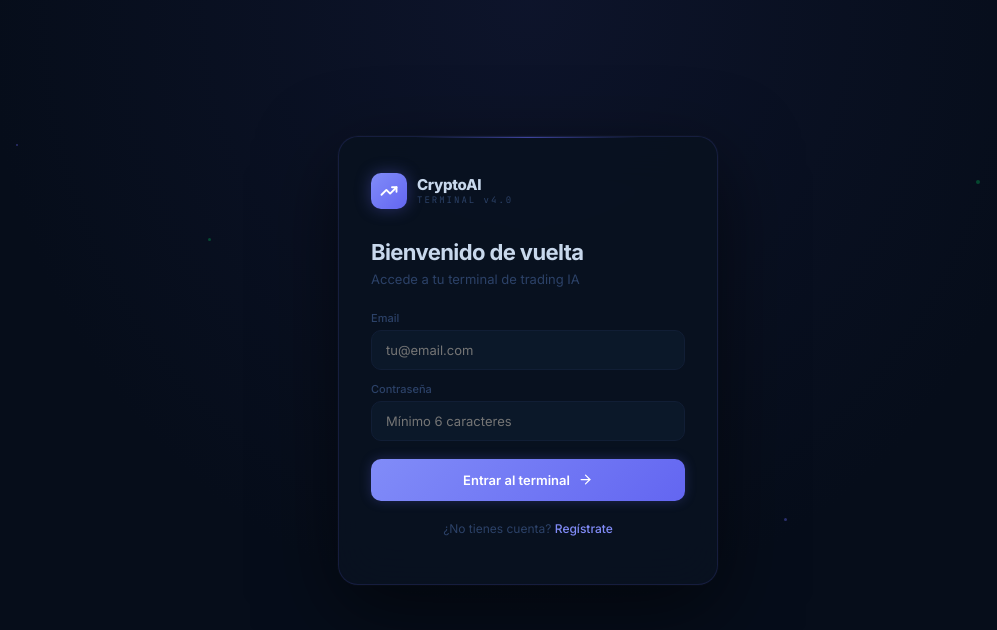
Scenario: Login › shows error for invalid email
The image size is (997, 630).
Type "notanemail" into the field with placeholder "tu@email.com" at (528, 350), box [371,330,685,370]
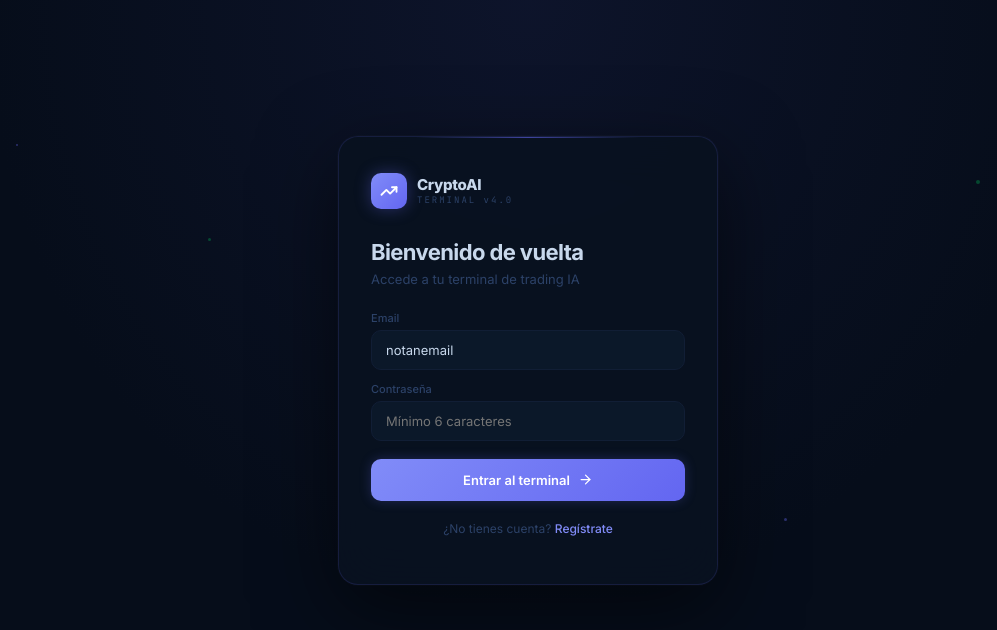
Type "password123" into the password field with placeholder "Mínimo 6 caracteres" at (528, 420), box [371,400,685,440]
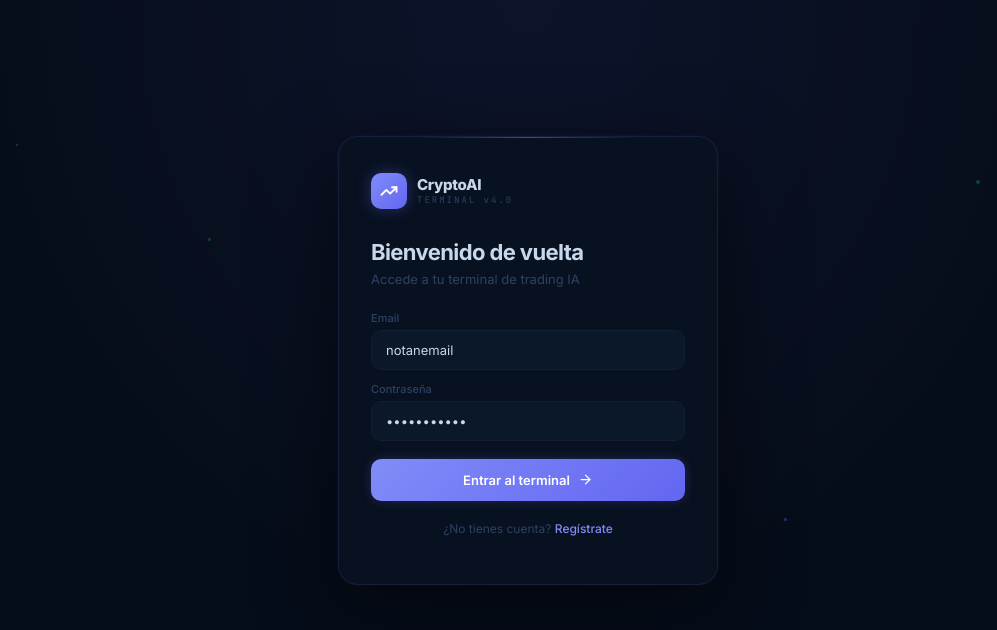
Click the button "Entrar al terminal" at (528, 480), box [371,458,685,500]
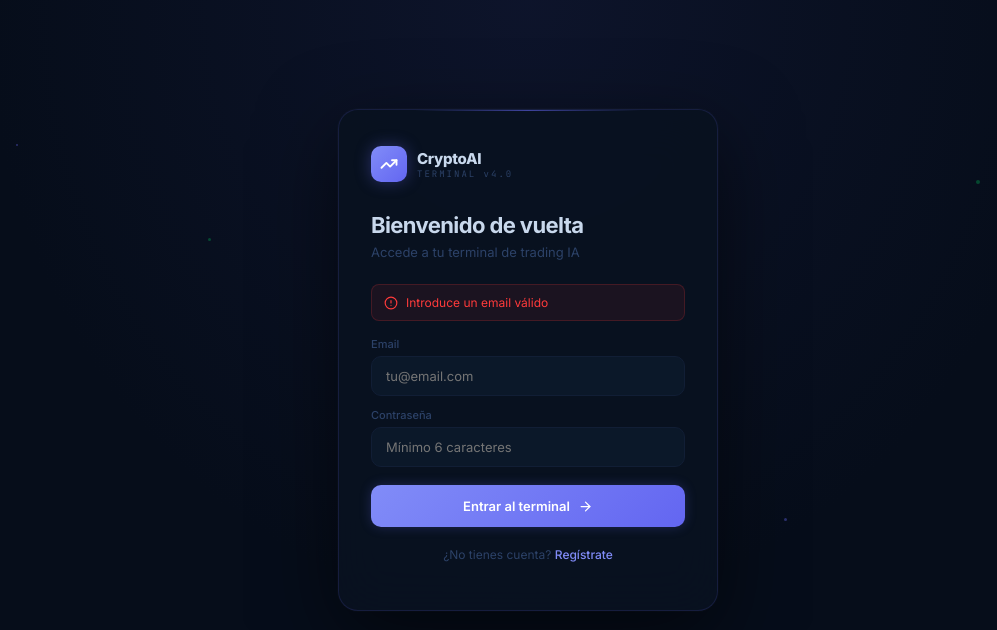
Expected: the text "Introduce un email válido" is shown, [371,284,685,321]
